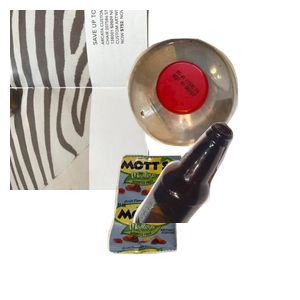glass: (130, 120, 300, 300)
paper: (10, 10, 250, 190)
plastic: (124, 36, 300, 175)
trash: (105, 152, 280, 300)
